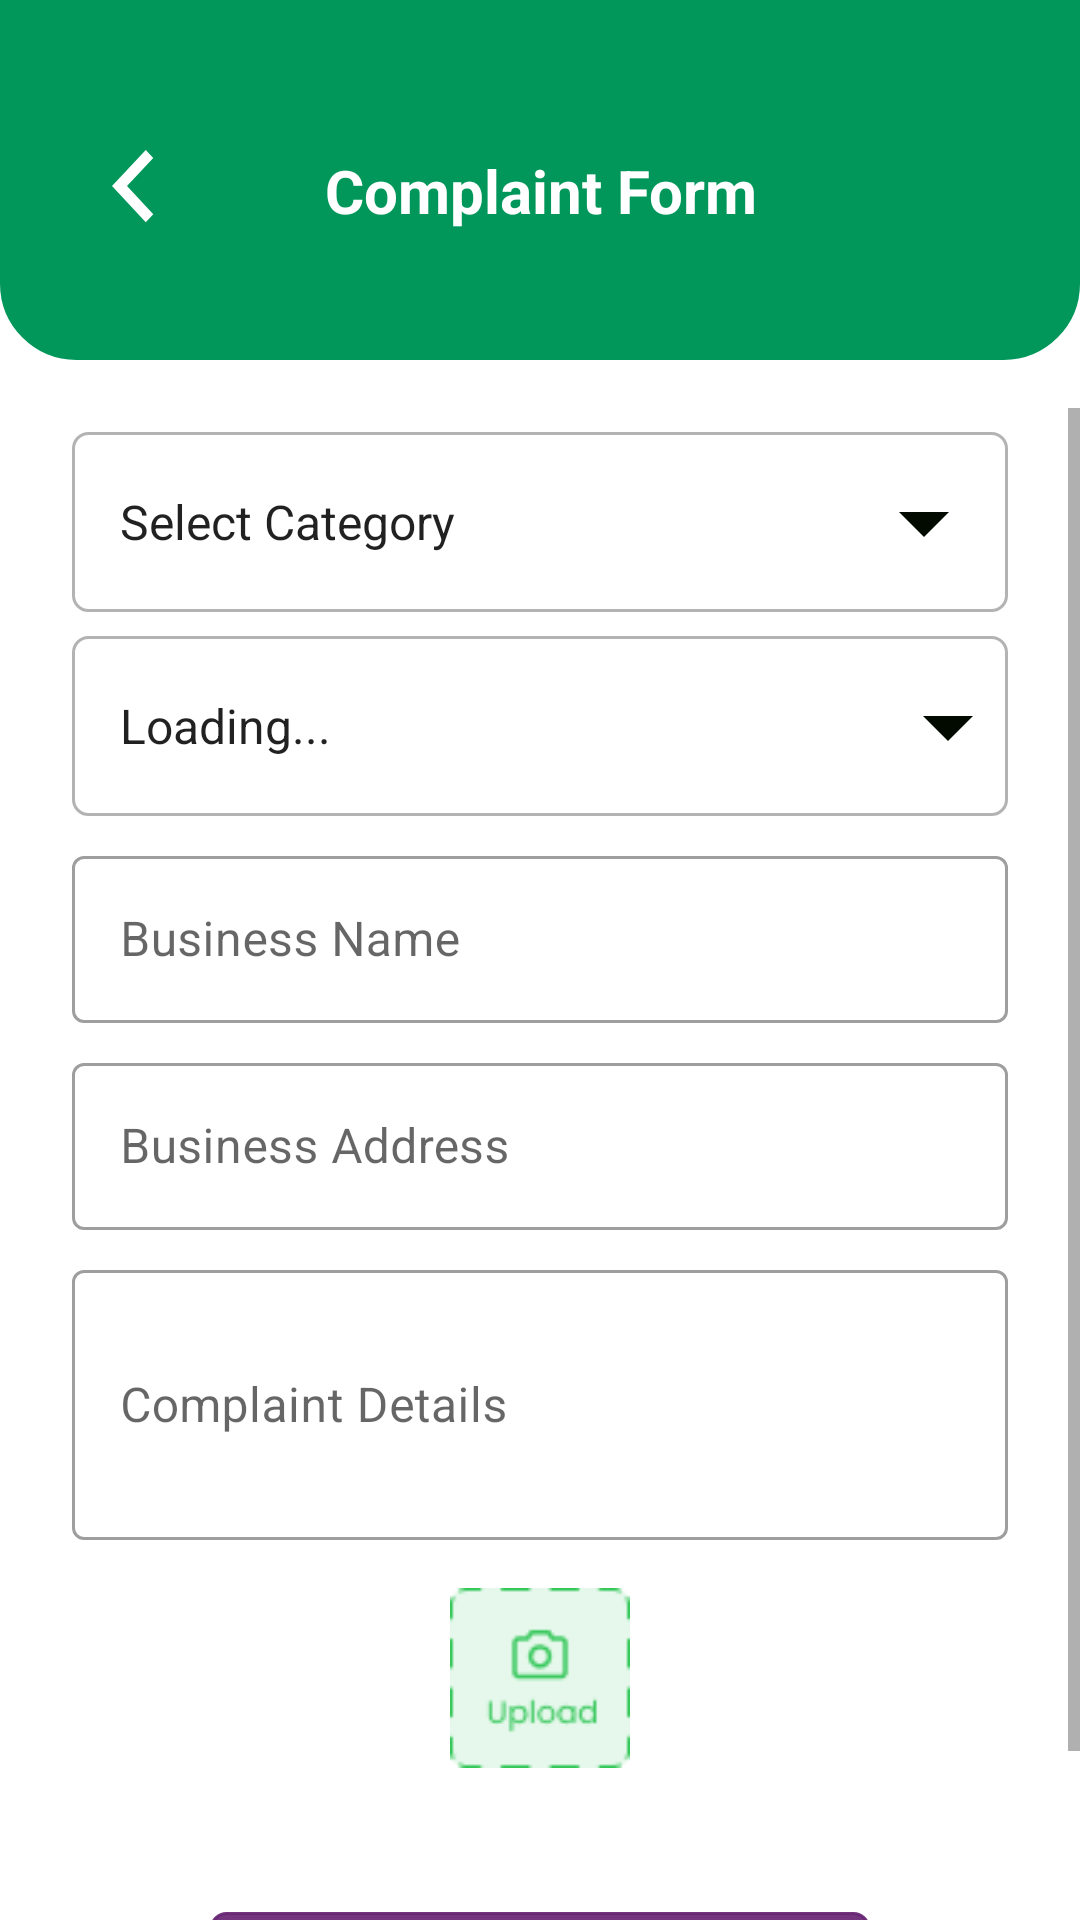

Screen size 1080 × 1920. Icon name, then its center in pixels as (x=x, y=y):
add photo: (x=540, y=1678)
back: (x=132, y=186)
dropdown: (x=924, y=524), (x=948, y=728)
